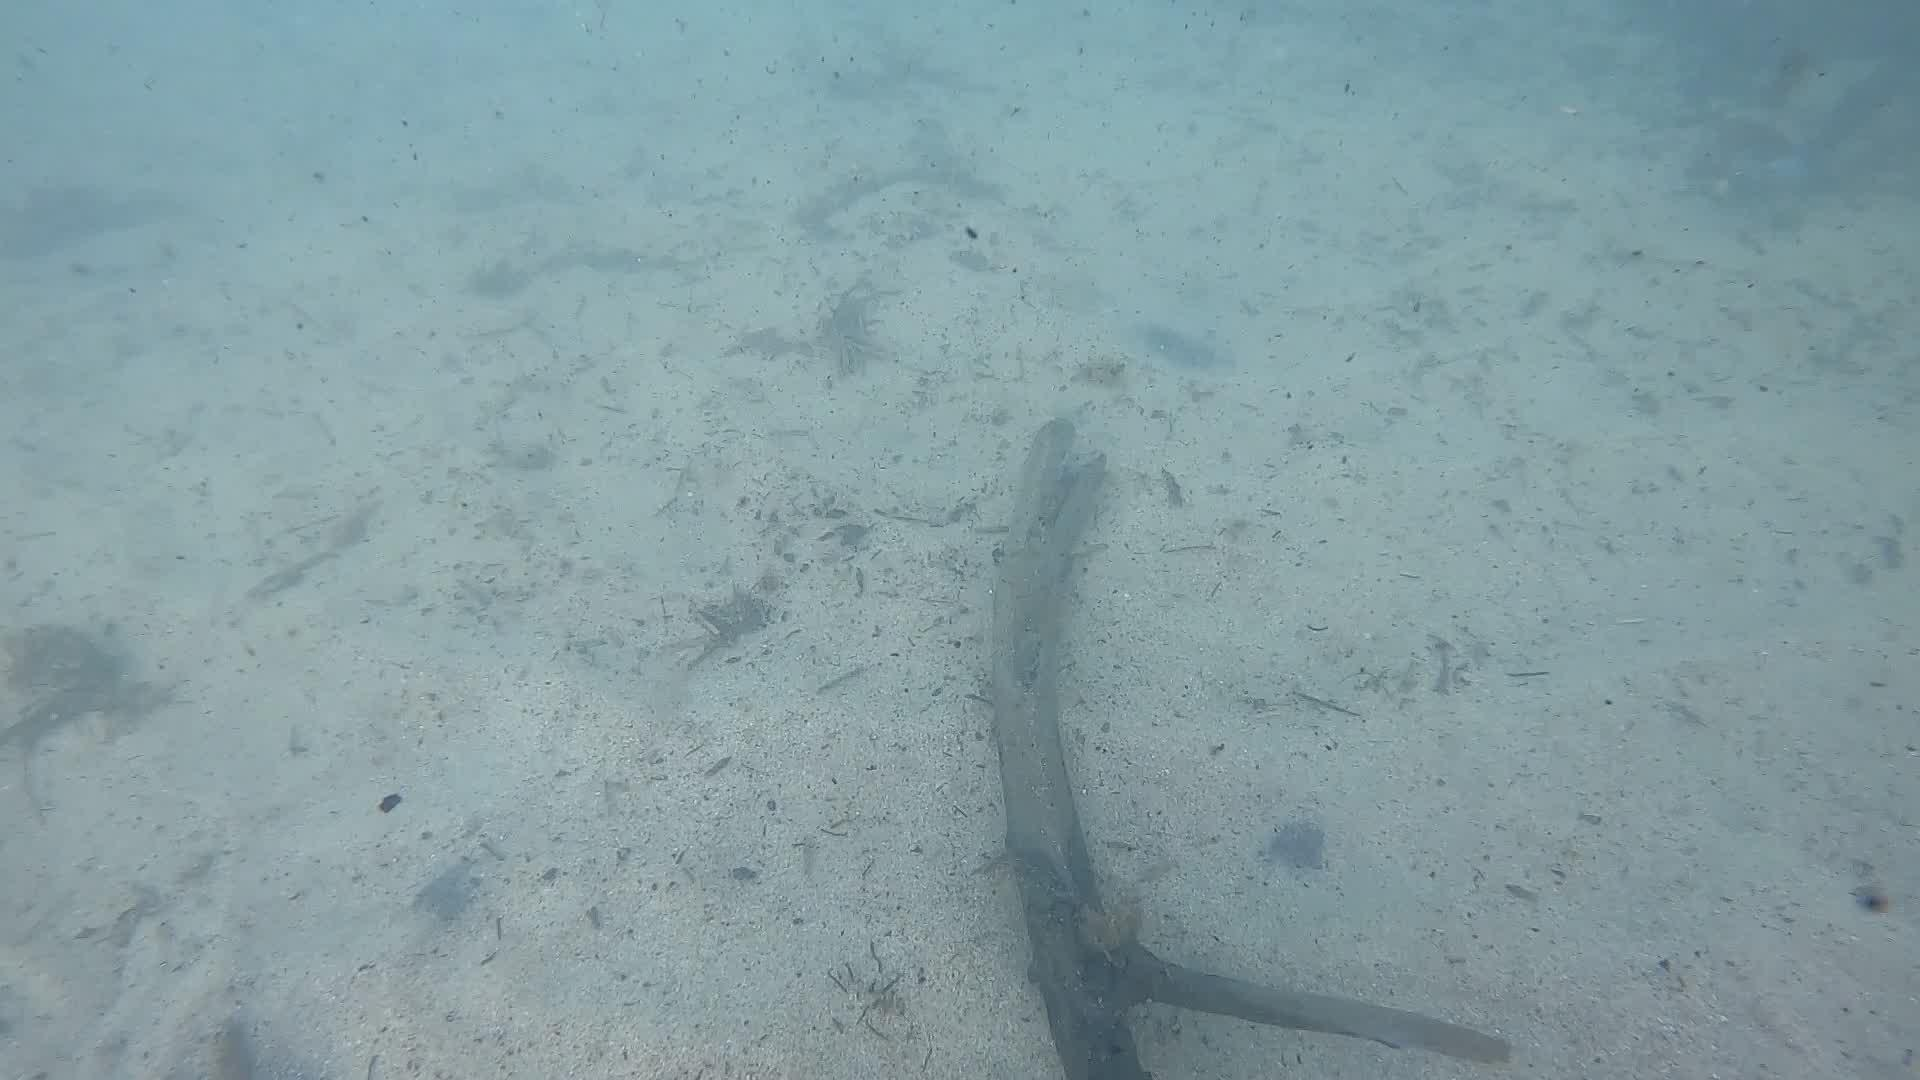wood: (994, 417, 1510, 1080)
